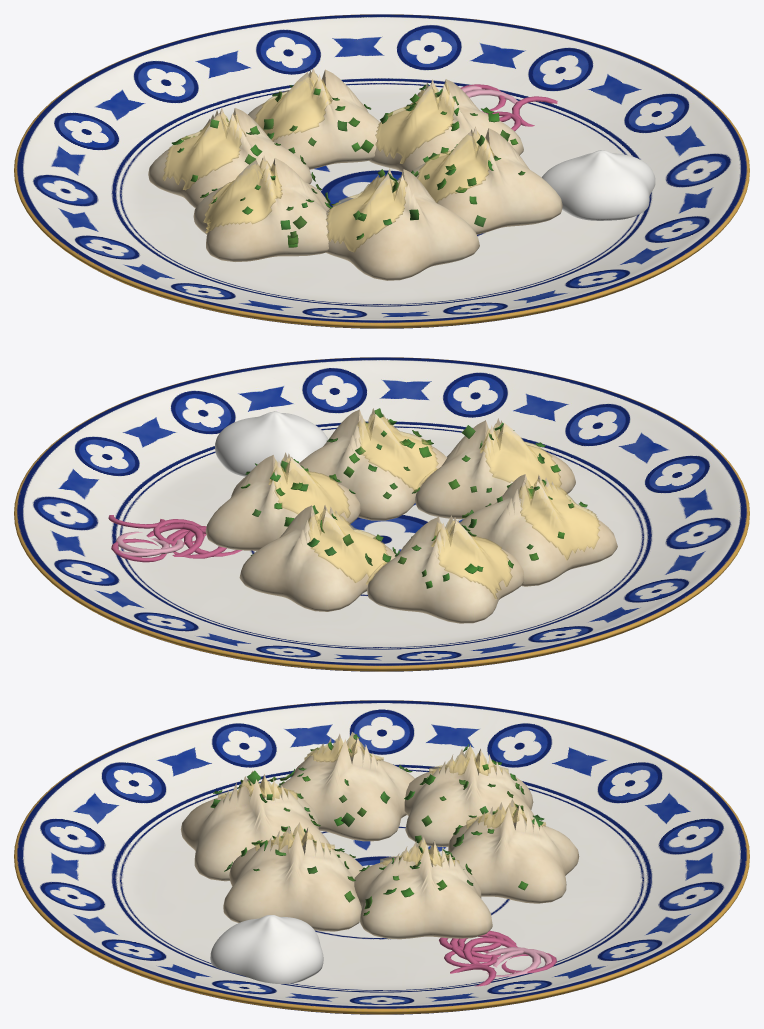
The model's file is manti.glb.
3 views of the same model, one above another, from view 1: azimuth 30°, elevation 25°; view 2: azimuth 150°, elevation 25°; view 3: azimuth 270°, elevation 25° (orthographic).
Parts seen in each view (by area): view 1: base, manti, butter-melt, yogurt, dill, sumac-onion; view 2: base, manti, butter-melt, yogurt, dill, sumac-onion; view 3: base, manti, yogurt, butter-melt, dill, sumac-onion.
Part boxes in pixels (box(x1,y1,x2,y2)): base: box(14, 14, 749, 328); manti: box(148, 68, 562, 280); butter-melt: box(162, 72, 494, 252); yogurt: box(541, 150, 655, 220); dill: box(171, 84, 525, 247); sumac-onion: box(460, 84, 557, 131); base: box(14, 357, 749, 671); manti: box(205, 408, 617, 623); butter-melt: box(268, 414, 600, 599); yogurt: box(215, 411, 328, 476); dill: box(241, 408, 587, 588); sumac-onion: box(108, 515, 241, 562); base: box(14, 700, 749, 1014); manti: box(180, 732, 579, 939); yogurt: box(210, 915, 323, 983); butter-melt: box(218, 736, 546, 866); dill: box(210, 734, 544, 915); sumac-onion: box(439, 930, 556, 986).
Bounding box in the file's own units: 0.2879 × 0.0461 × 0.2879.
6 materials, 3 textured.
